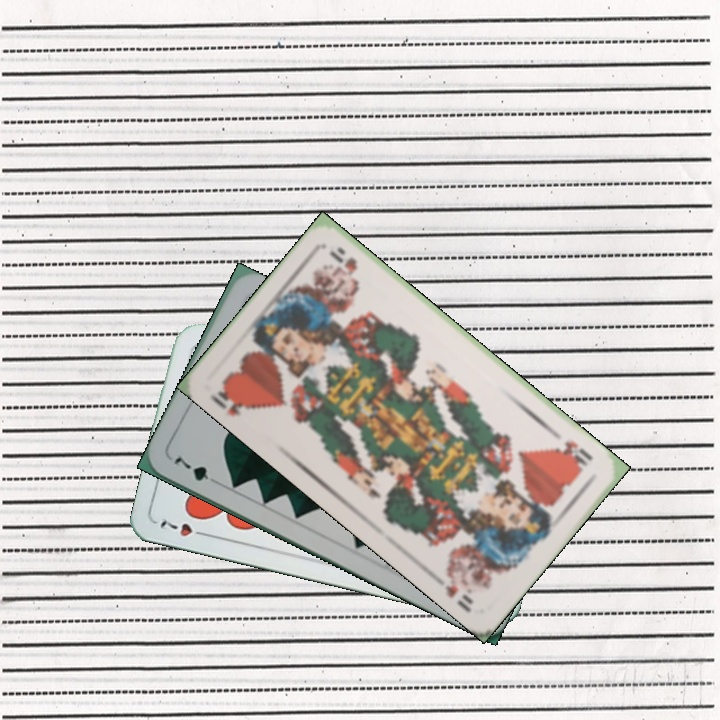G7: (169, 452, 223, 488)
H7: (155, 516, 212, 539)
HO: (213, 379, 257, 419), (552, 437, 596, 472)
